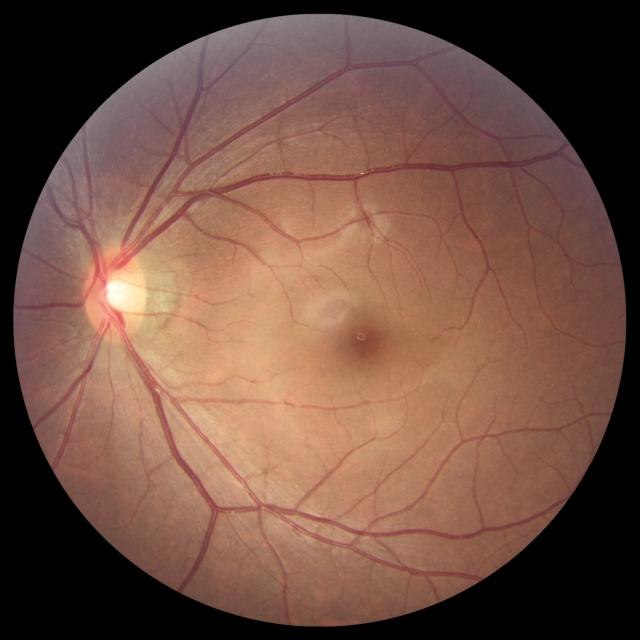OC: (100, 270, 135, 311)
OD: (86, 245, 146, 341)
